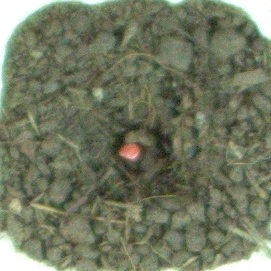pepper seed: (41, 57, 187, 219)
